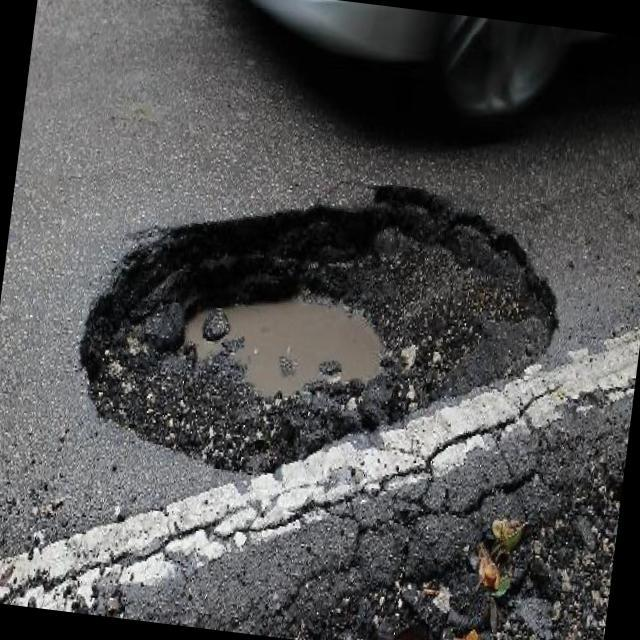Pothole: (80, 186, 556, 470)
